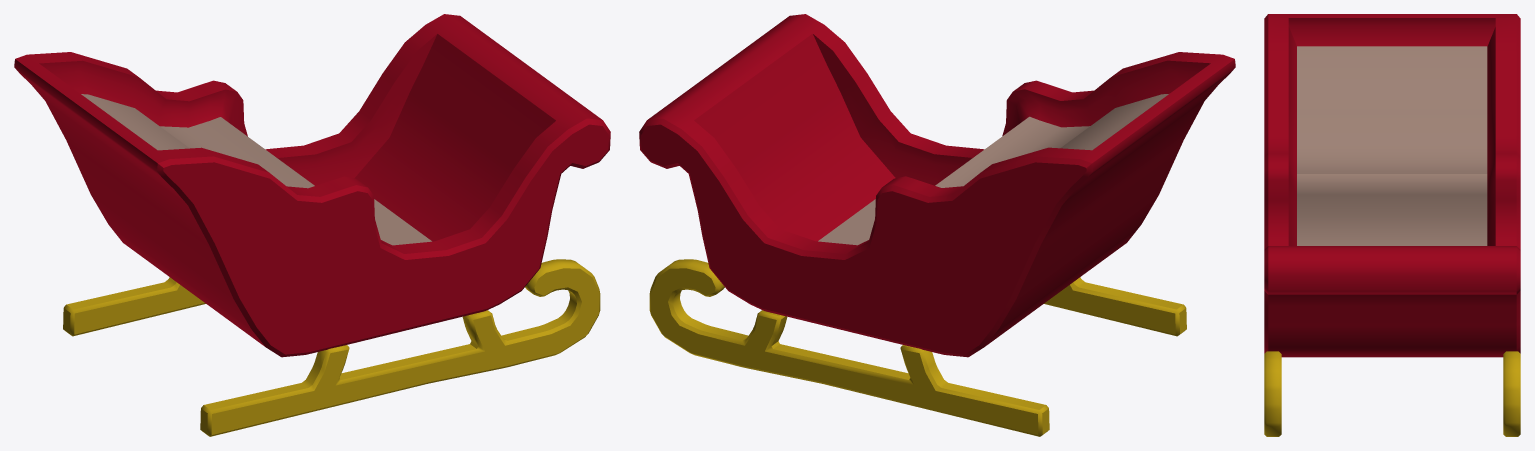
The model's file is sleigh.fbx.
3 views of the same model, side by side, from view 1: azimuth 30°, elevation 25°; view 2: azimuth 150°, elevation 25°; view 3: azimuth 270°, elevation 25° (orthographic). The views are drawn at different scales.
Visible parts, largest first — view 1: sleigh, feet; view 2: sleigh, feet; view 3: sleigh, feet.
Part boxes in pixels (bbox=[...]): sleigh: bbox=[14, 14, 610, 357]; feet: bbox=[63, 259, 600, 436]; sleigh: bbox=[639, 14, 1235, 357]; feet: bbox=[649, 259, 1186, 436]; sleigh: bbox=[1264, 14, 1520, 357]; feet: bbox=[1264, 351, 1520, 436].
Size of the model in its own units: 804 by 491 by 452.
